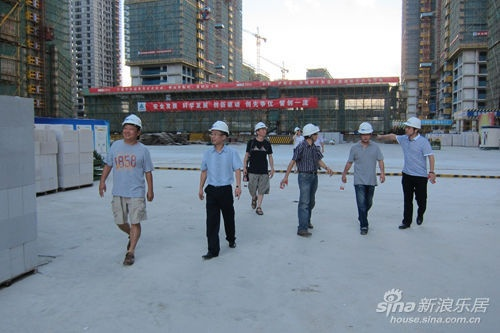white: (120, 113, 142, 140), (208, 120, 230, 146), (301, 122, 321, 142), (403, 116, 421, 136), (357, 121, 374, 142), (253, 119, 268, 138), (293, 126, 301, 136)
